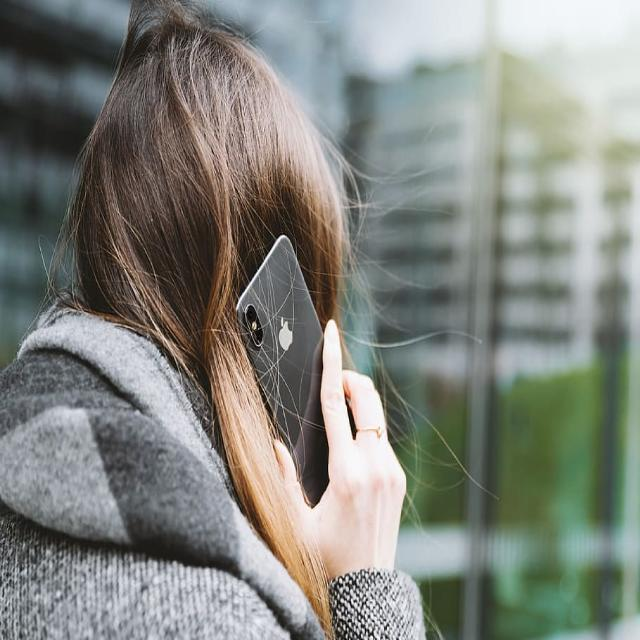phone: (232, 233, 360, 502)
